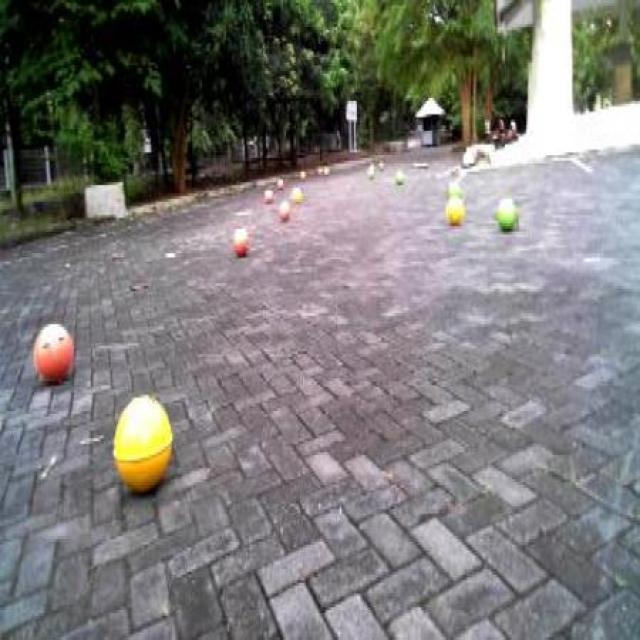buoy: (110, 385, 176, 500), (31, 313, 77, 392), (494, 192, 519, 236), (444, 188, 464, 229), (232, 223, 249, 253)
